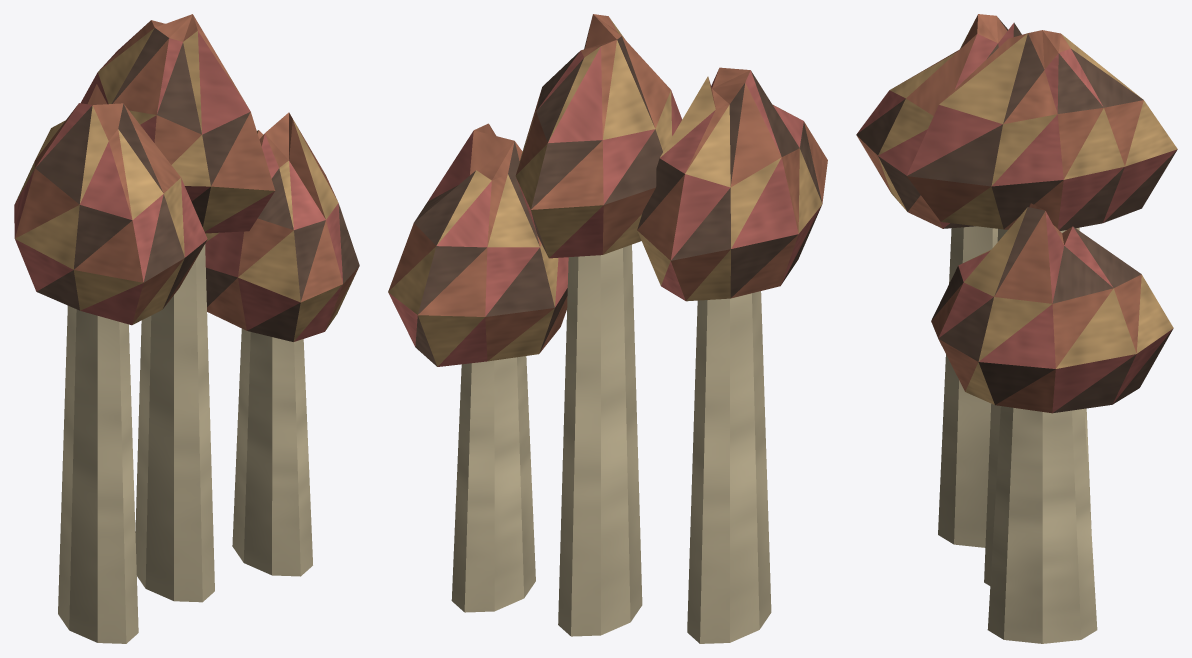
File: mushroom_giant_02.fbx
The picture shows the model from 3 angles, left to right: view 1: azimuth 30°, elevation 25°; view 2: azimuth 150°, elevation 25°; view 3: azimuth 270°, elevation 25°; orthographic projection. The views are drawn at different scales.
Visible parts, largest first — view 1: mushroom_giant_02; view 2: mushroom_giant_02; view 3: mushroom_giant_02.
Part boxes in pixels (bbox=[...]): mushroom_giant_02: bbox=[14, 14, 359, 643]; mushroom_giant_02: bbox=[388, 14, 827, 643]; mushroom_giant_02: bbox=[856, 14, 1177, 643].
Bounding box in the file's own units: 259 × 400 × 210.
Materials: 1 (1 with a texture image).
